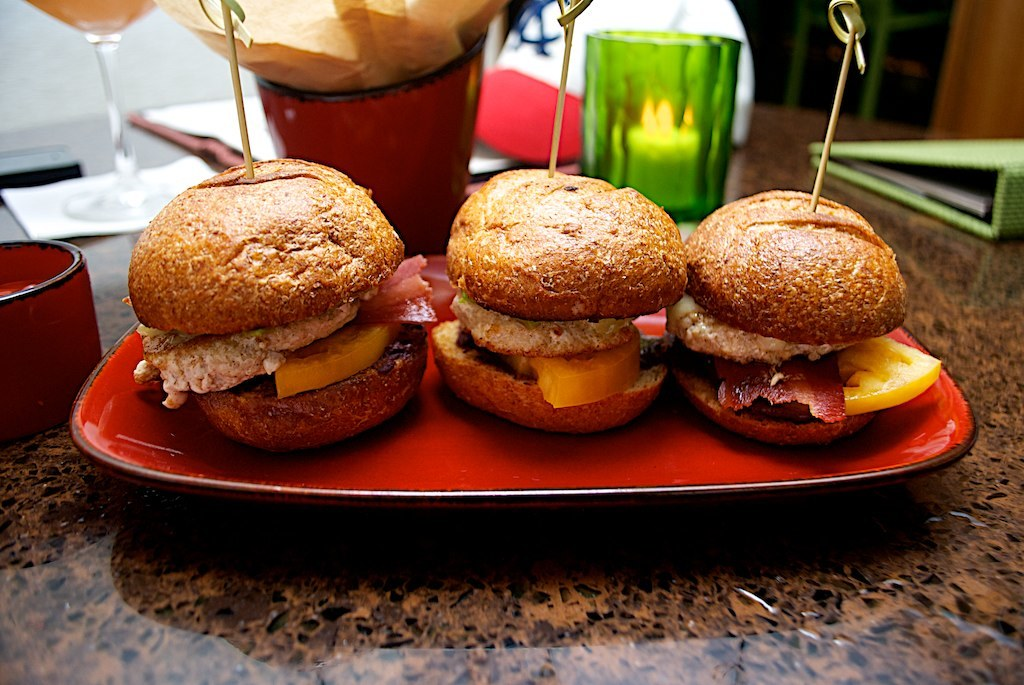Hamburger: (124, 153, 435, 450), (664, 193, 942, 448), (432, 168, 684, 432)
